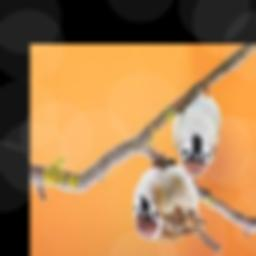Sparrow: (134, 153, 222, 253), (172, 76, 221, 179)
